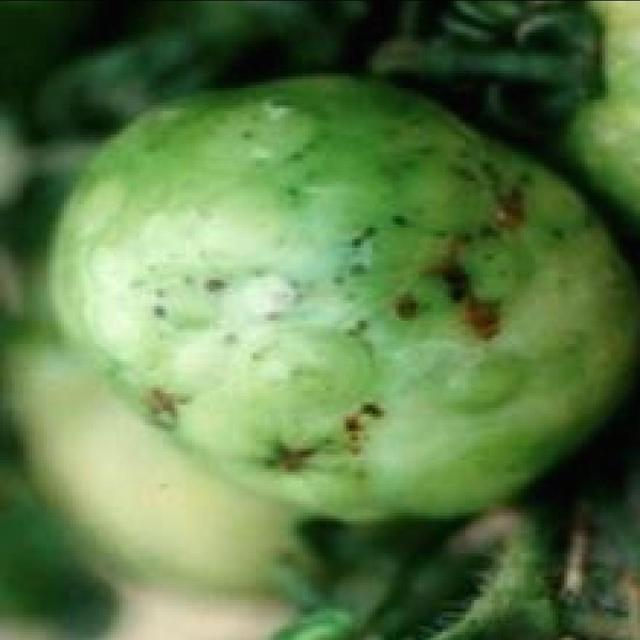Spotted wilt Virus Fruit: (25, 44, 426, 350)
